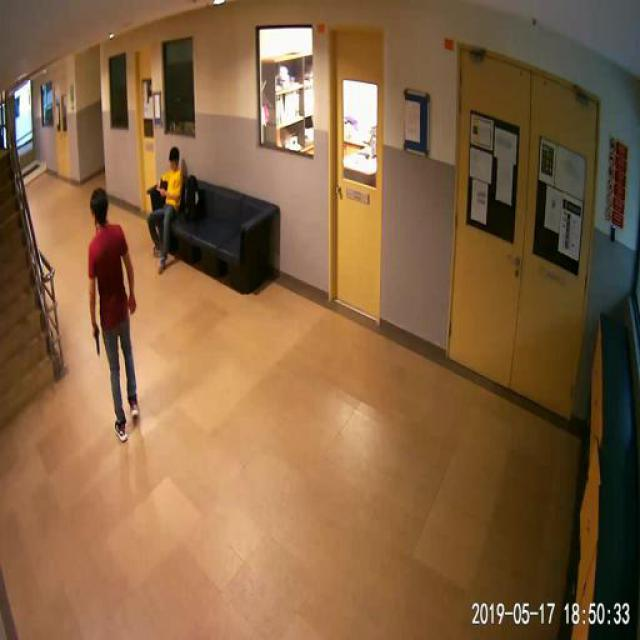Gun: (90, 322, 98, 352)
